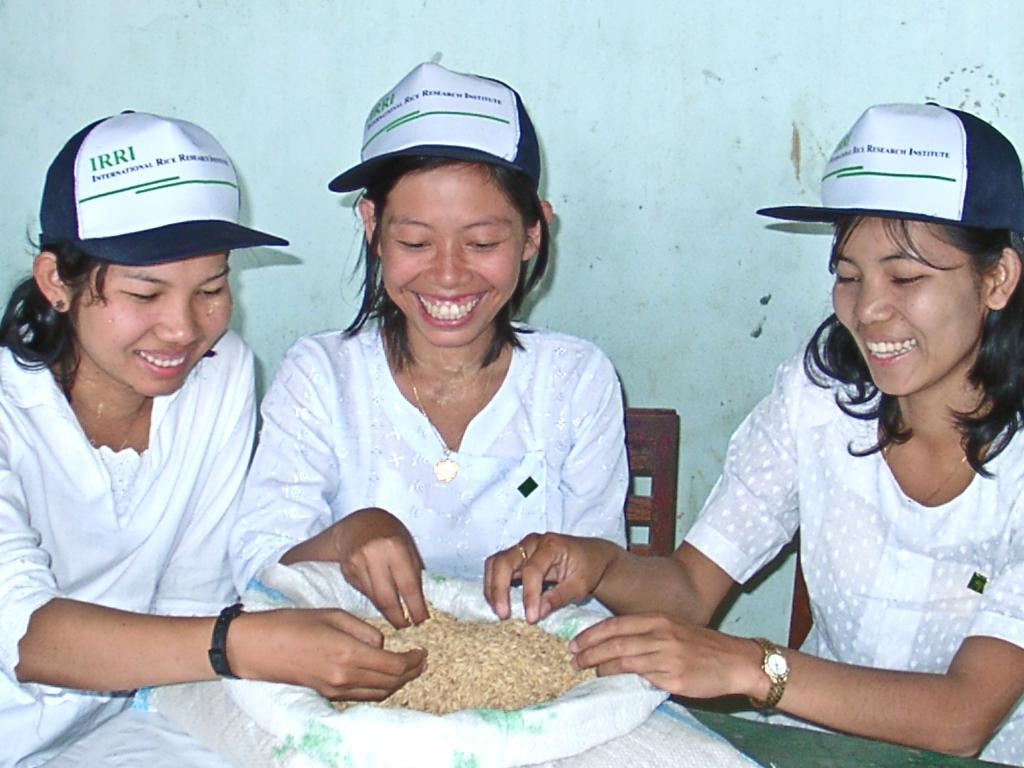Hat: (38, 110, 290, 266), (754, 98, 1023, 230), (326, 54, 541, 194)
